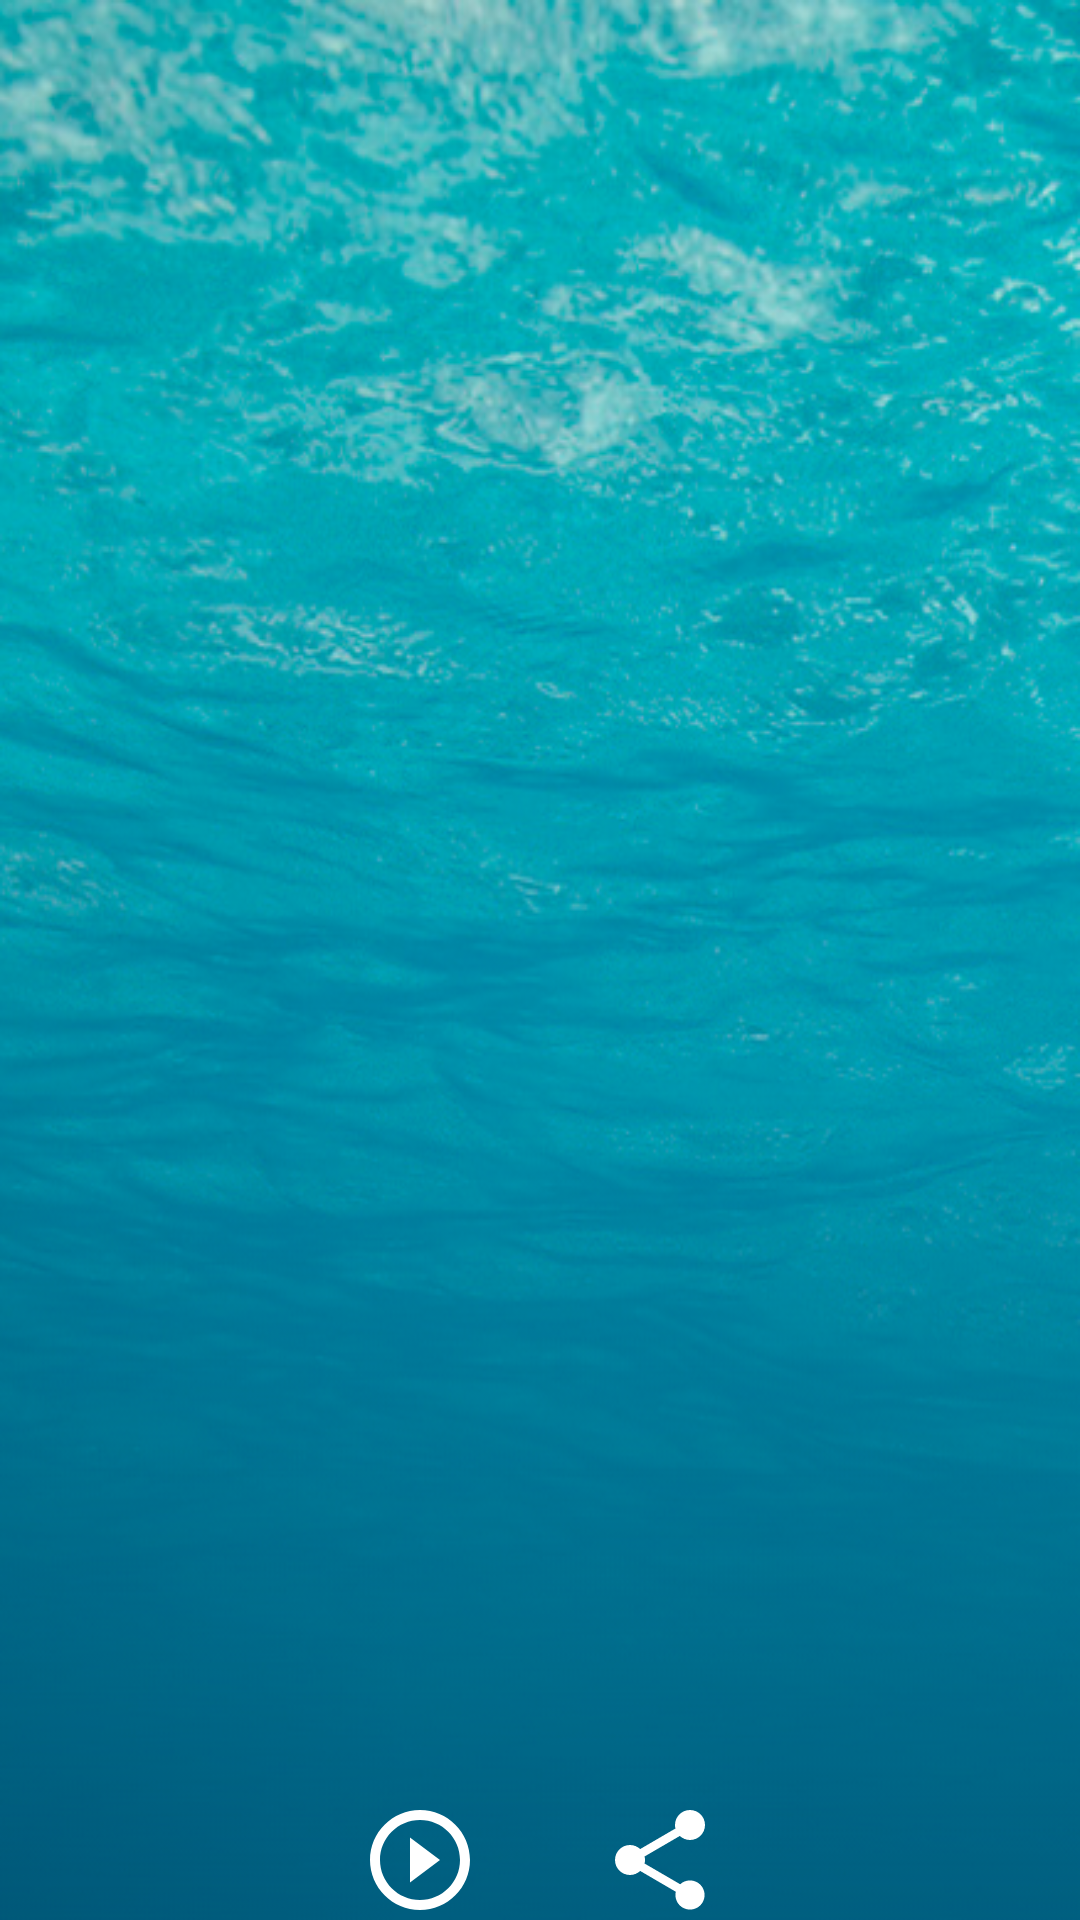

Icons on this 1080*1920 Android screen, each with its box as [x1, y1, x2, y2]:
play: [370, 1810, 470, 1910]
share: [615, 1810, 705, 1910]
